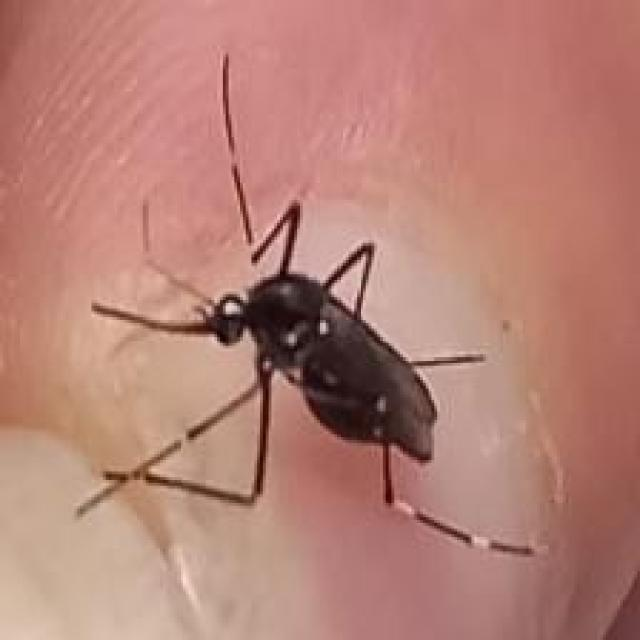Aedes albopictus: (73, 50, 550, 564)
